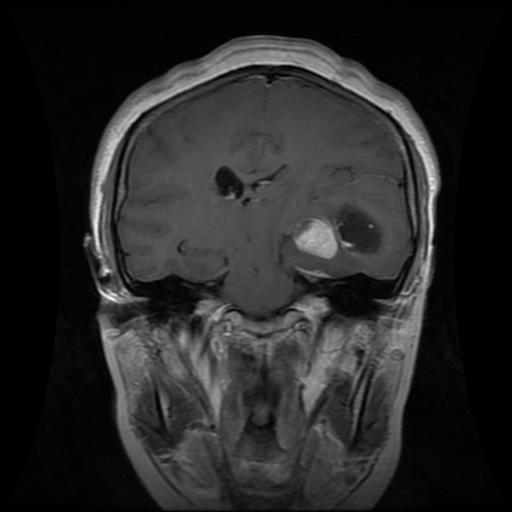Menigiomia_tumour: (291, 210, 384, 256)
